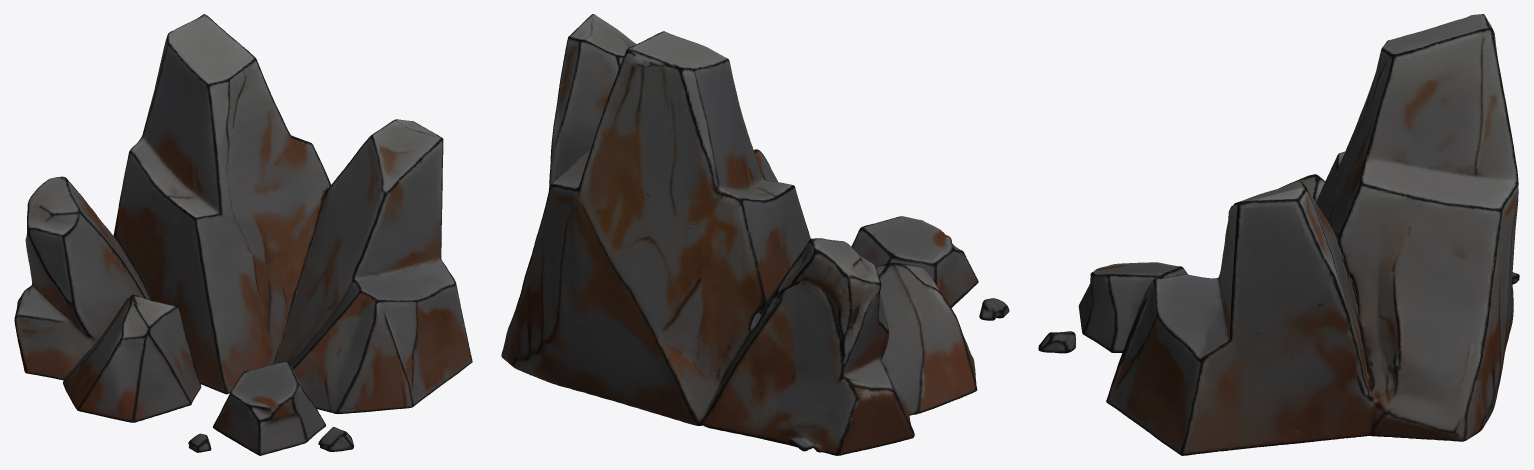
Rendered from iron.glb.
3 views of the same model, side by side, from view 1: azimuth 30°, elevation 25°; view 2: azimuth 150°, elevation 25°; view 3: azimuth 270°, elevation 25° (orthographic). The views are drawn at different scales.
Parts seen in each view (by area): view 1: world; view 2: world; view 3: world.
Part boxes in pixels (left/top/right/bottom): world: left=14, top=14, right=472, bottom=455; world: left=501, top=14, right=1009, bottom=455; world: left=1038, top=14, right=1519, bottom=455.
Size of the model in its own units: 0.9978 by 0.7977 by 1.
Materials: 1 (1 with a texture image).
